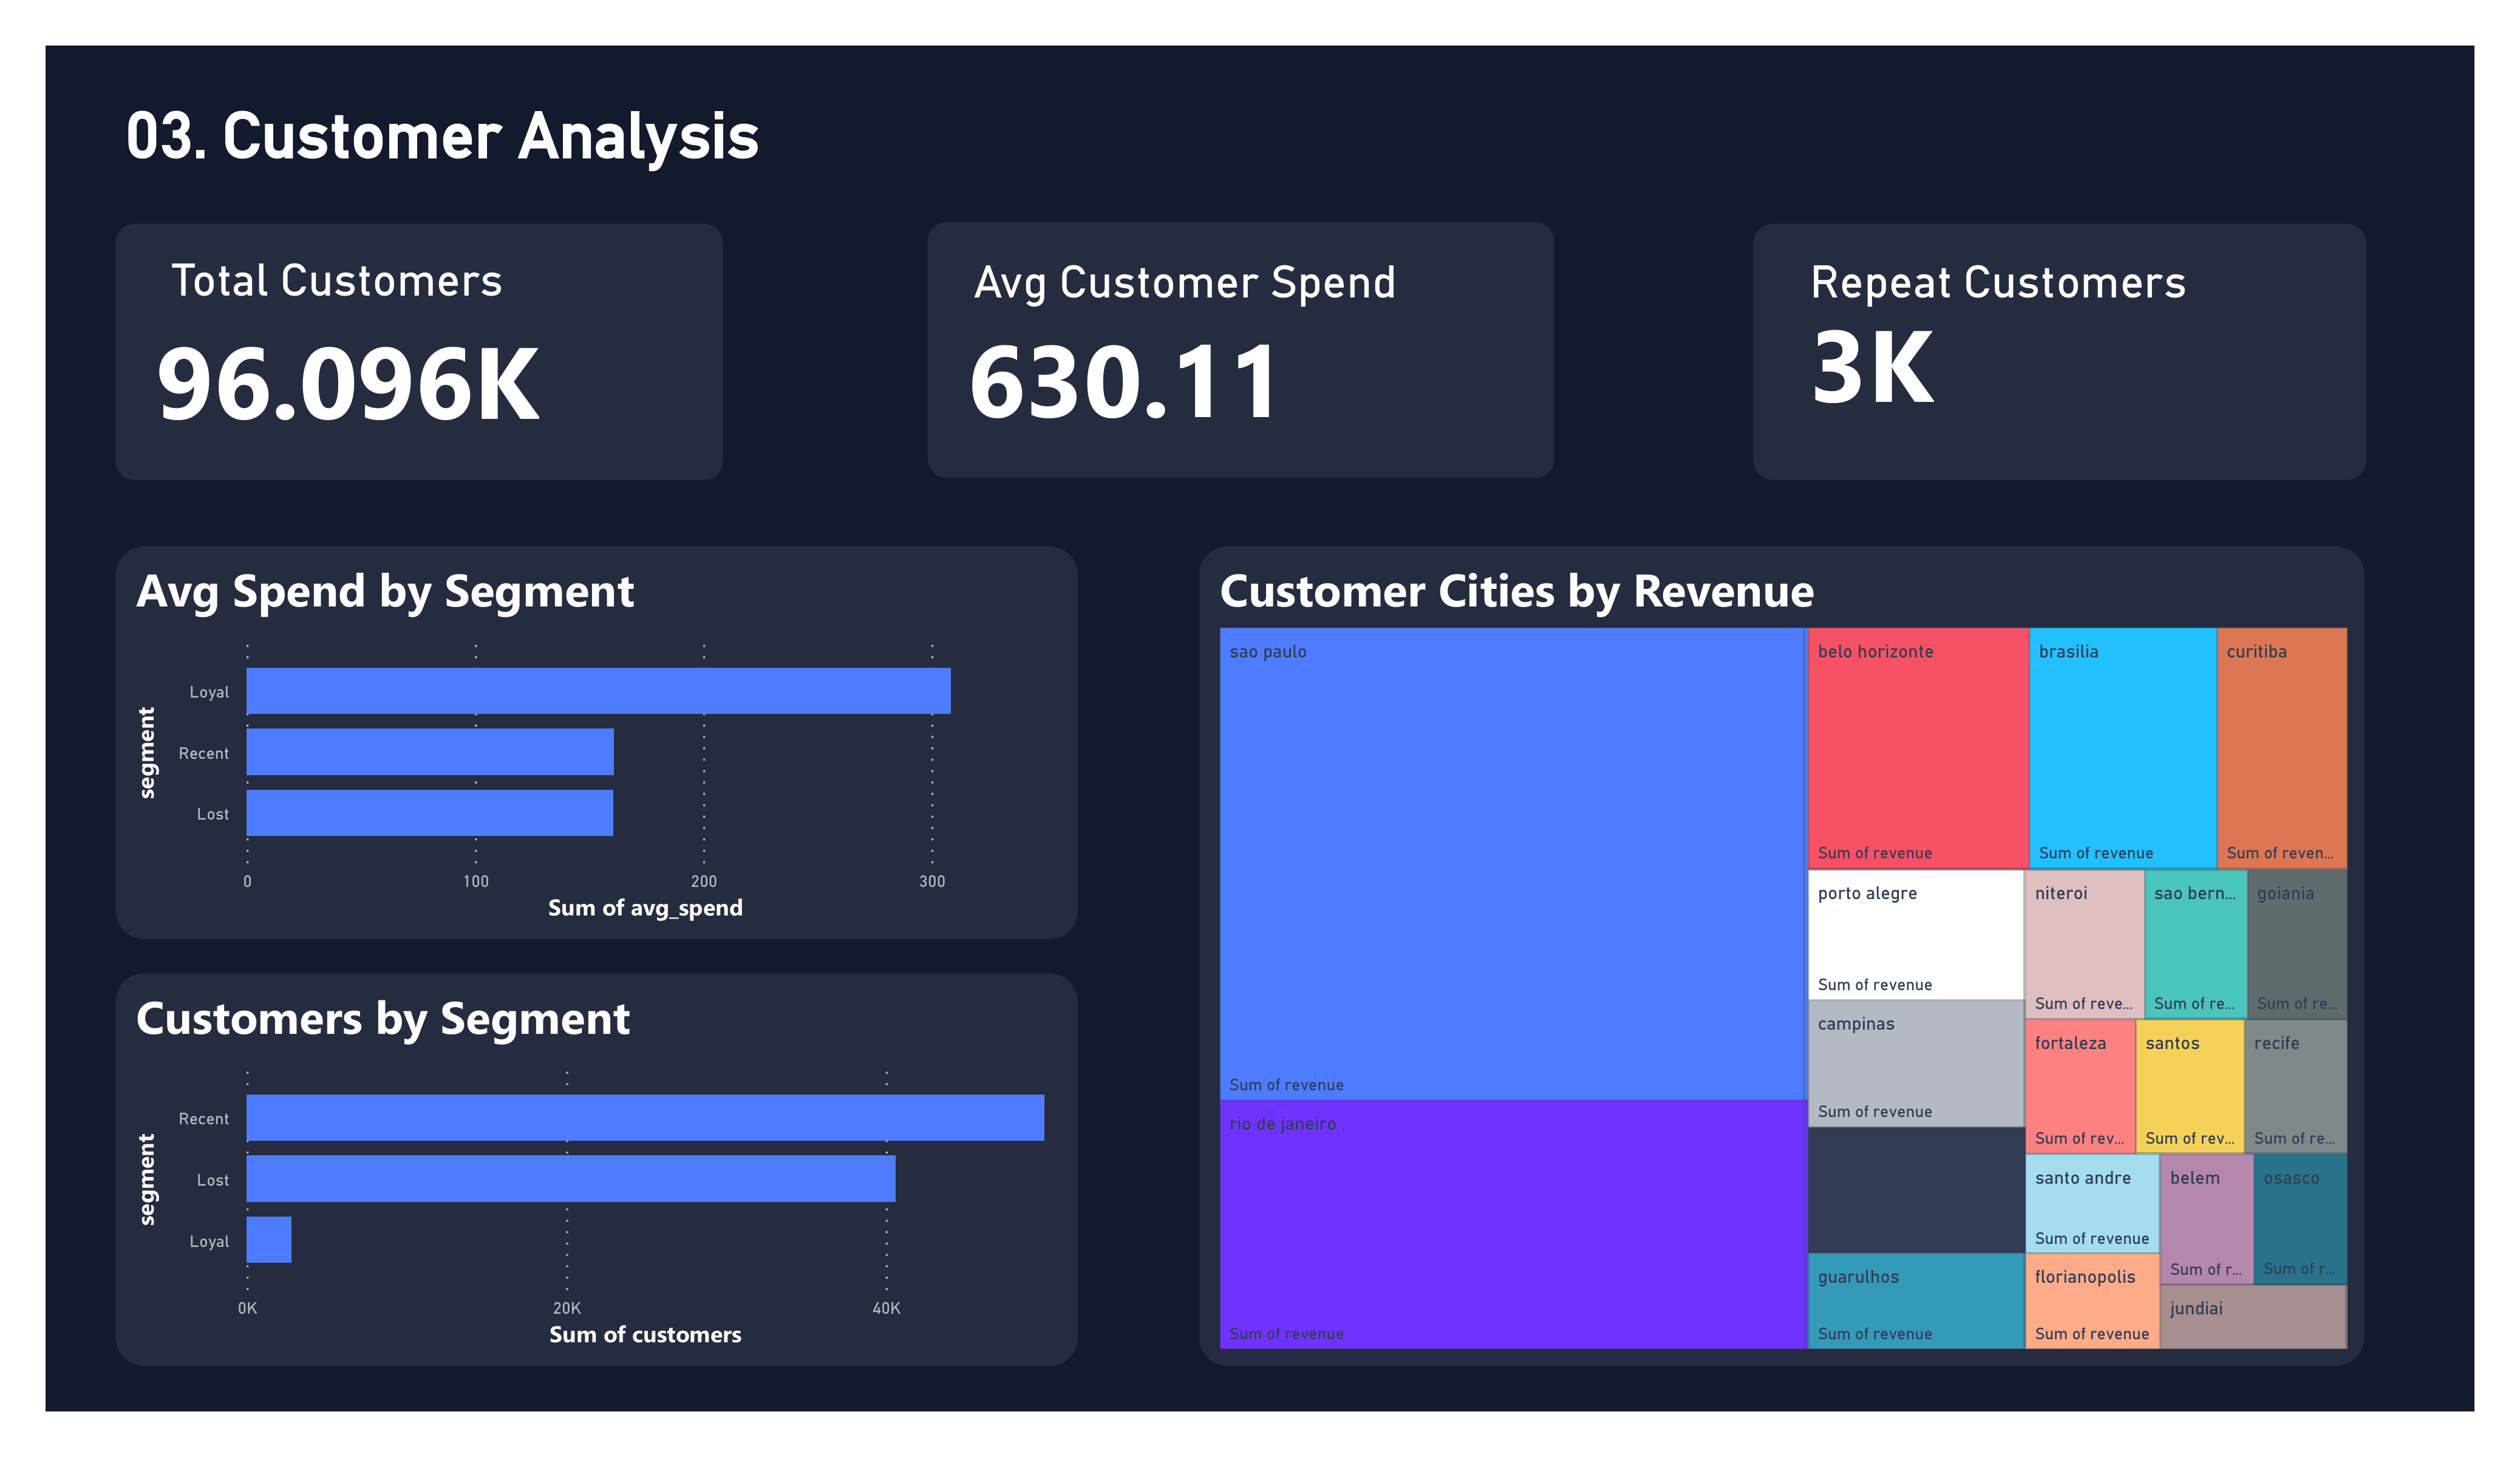

Layout of this report page (visuals, bound fields, positions):
{"tool":"powerbi","page":{"name":"03. Customer Analysis","canvas":[1280,720],"ordinal":2},"visuals":[{"type":"cardVisual","fields":{"Data":["Count(public customers_clean.customer_unique_id)"]},"box":[37.1,94.3,320.2,134.8],"z":0,"group":"g1"},{"type":"clusteredBarChart","title":"Avg Spend by Segment","fields":{"Y":["Sum(customer_segments.avg_spend)"],"Category":["customer_segments.segment"]},"box":[37.5,263.6,506.1,207.4],"z":0},{"type":"textbox","box":[37.5,23.4,367.9,50.4],"z":1000},{"type":"cardVisual","fields":{"Data":["Sum(Customer Analysis.avg_spend)"]},"box":[465.1,92.5,330.2,135.3],"z":1000,"group":"g2"},{"type":"cardVisual","title":"Total Revenue","fields":{"Data":["Sum(customer_segments.customers)"]},"box":[899.7,93.7,322.7,135.3],"z":2000,"group":"g3"},{"type":"group","id":"g1","title":"Group 1","box":[37.1,94.3,320,134.3],"z":2000},{"type":"group","id":"g2","title":"Group 2","box":[465.1,92.5,330.2,135.3],"z":3000},{"type":"group","id":"g3","title":"Group 3","box":[899.7,93.7,322.7,135.3],"z":4000},{"type":"textbox","box":[924.6,105.7,255.4,39.8],"z":5000,"group":"g3"},{"type":"clusteredBarChart","title":"Customers by Segment","fields":{"Category":["customer_segments.segment"],"Y":["Sum(customer_segments.customers)"]},"box":[37.5,488.5,506.1,207.4],"z":5000},{"type":"textbox","box":[483.7,105.9,248.4,38.7],"z":6000,"group":"g2"},{"type":"treemap","title":" Customer Cities by Revenue","fields":{"Values":["Sum(customer_cities_by_revenue.revenue)","Sum(customer_cities_by_revenue.total_orders)"],"Group":["customer_cities_by_revenue.customer_city"]},"box":[608,263.6,613.9,432.3],"z":6000},{"type":"textbox","box":[61.4,104.9,237.3,37],"z":7000,"group":"g1"}]}

Visuals, with their boxes on the page's 1280x720 design canvas (x1, y1, x2, y2). These are canvas units, not pixel positions in the 2520x1457 screenshot, which may show the page scaled, cropped or inside an application window:
cardVisual - Count(public customers_clean.customer_unique_id): BBox(37, 94, 357, 229)
"Avg Spend by Segment" clusteredBarChart: BBox(38, 264, 544, 471)
textbox: BBox(38, 23, 405, 74)
cardVisual - Sum(Customer Analysis.avg_spend): BBox(465, 92, 795, 228)
"Total Revenue" cardVisual: BBox(900, 94, 1222, 229)
"Group 1" group: BBox(37, 94, 357, 229)
"Group 2" group: BBox(465, 92, 795, 228)
"Group 3" group: BBox(900, 94, 1222, 229)
textbox: BBox(925, 106, 1180, 146)
"Customers by Segment" clusteredBarChart: BBox(38, 488, 544, 696)
textbox: BBox(484, 106, 732, 145)
" Customer Cities by Revenue" treemap: BBox(608, 264, 1222, 696)
textbox: BBox(61, 105, 299, 142)
